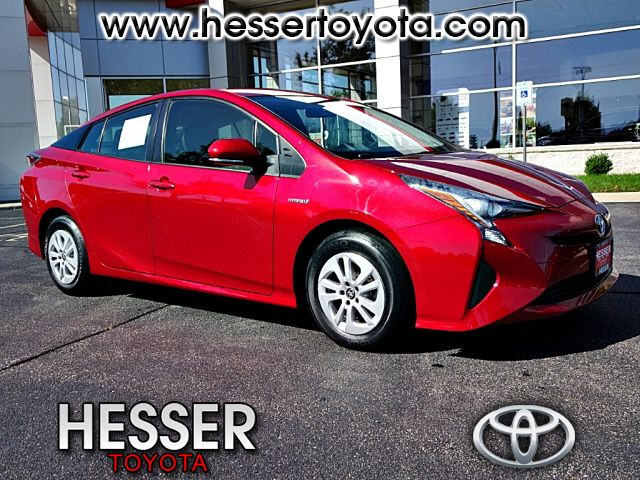Toyota Prius: (19, 88, 619, 352)
